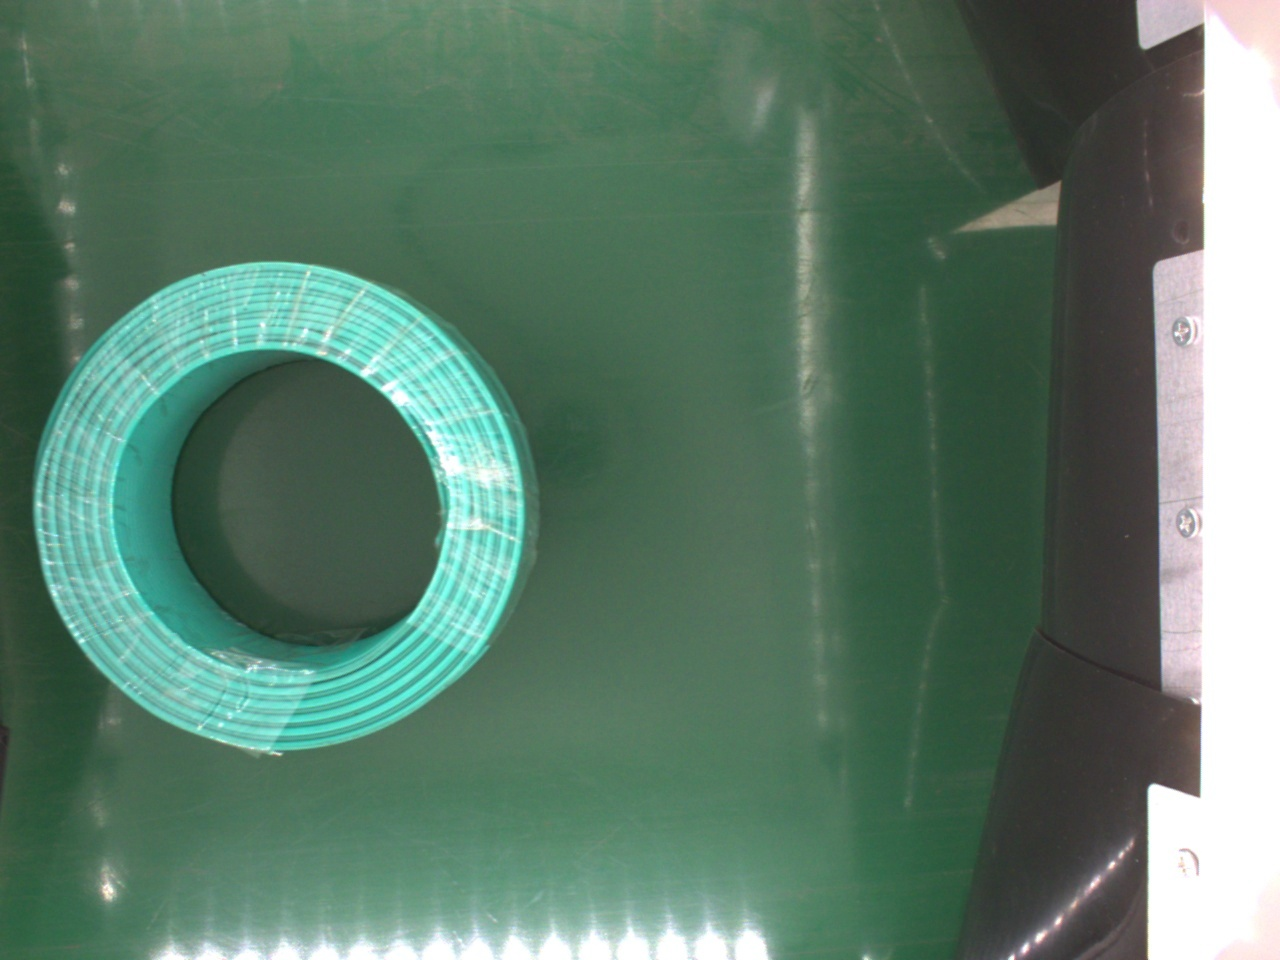green: (34, 256, 539, 759)
